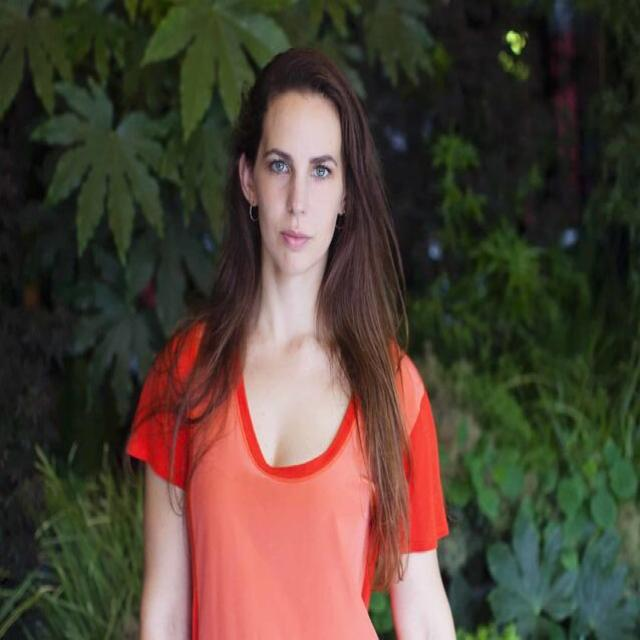Nonhelmet: (230, 37, 369, 275)
